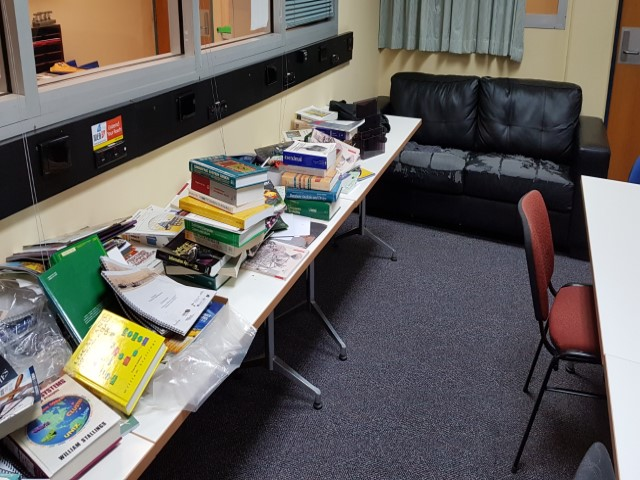key: (198, 252, 223, 262)
